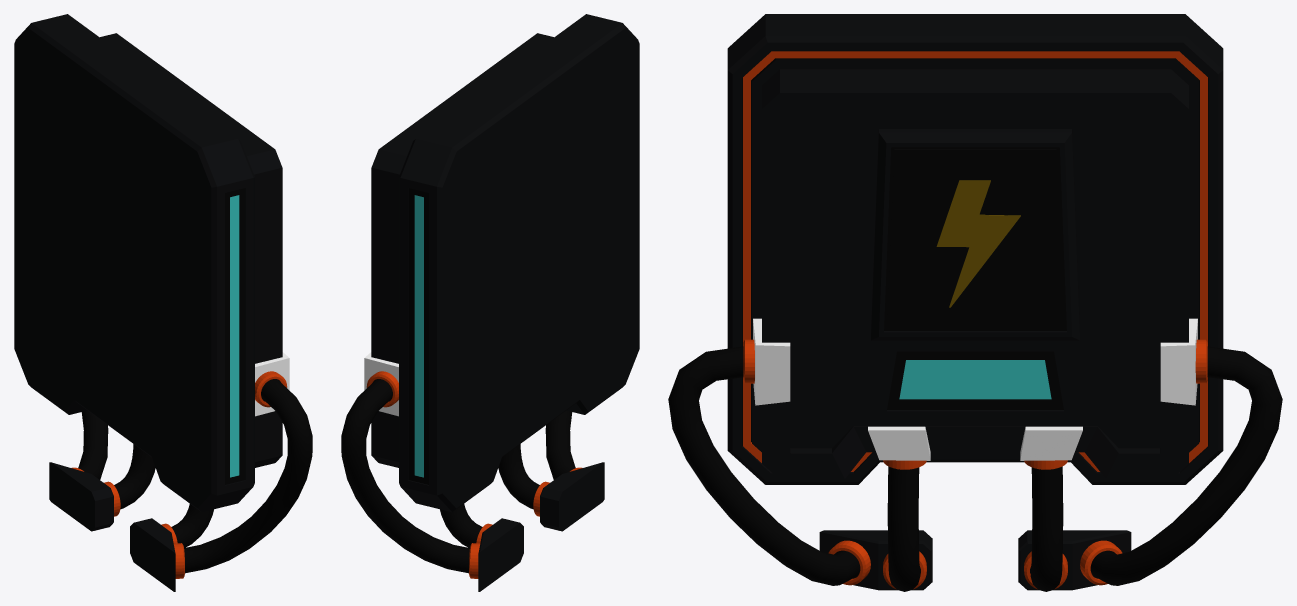
File: SM_Power_Junction.obj
3 views of the same model, side by side, from view 1: azimuth 30°, elevation 25°; view 2: azimuth 150°, elevation 25°; view 3: azimuth 270°, elevation 25° (orthographic). The views are drawn at different scales.
Parts seen in each view (by area): view 1: SM_Power_Junction_Box_Base; view 2: SM_Power_Junction_Box_Base; view 3: SM_Power_Junction_Box_Base.
Part boxes in pixels (box(x1,y1,x2,y2)): SM_Power_Junction_Box_Base: box(14, 14, 312, 591); SM_Power_Junction_Box_Base: box(341, 14, 639, 591); SM_Power_Junction_Box_Base: box(668, 14, 1282, 591).
Size of the model in its own units: 0.206 by 1.01 by 0.9915.
